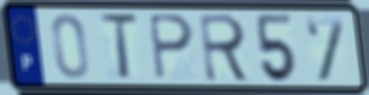0: (50, 12, 91, 81)
5: (253, 12, 299, 85)
7: (304, 13, 347, 84)
P: (146, 12, 196, 82)
R: (197, 12, 253, 84)
T: (96, 11, 141, 82)
